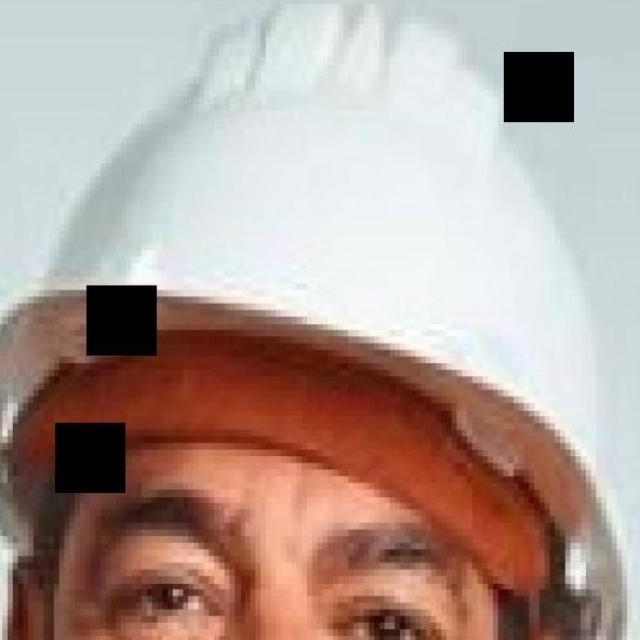white helmet: (1, 1, 637, 640)
